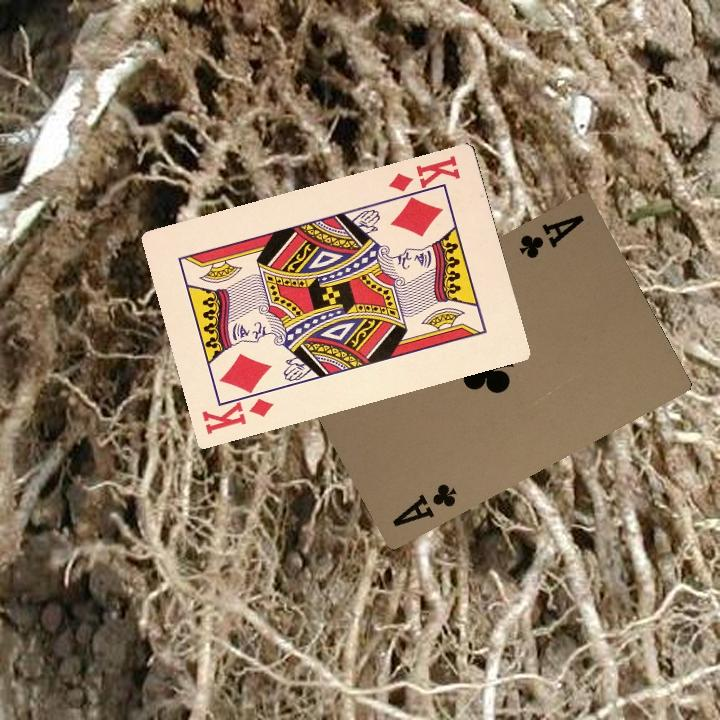Ac: (515, 210, 587, 262), (388, 479, 459, 530)
Kd: (198, 384, 279, 438), (386, 151, 463, 203)
